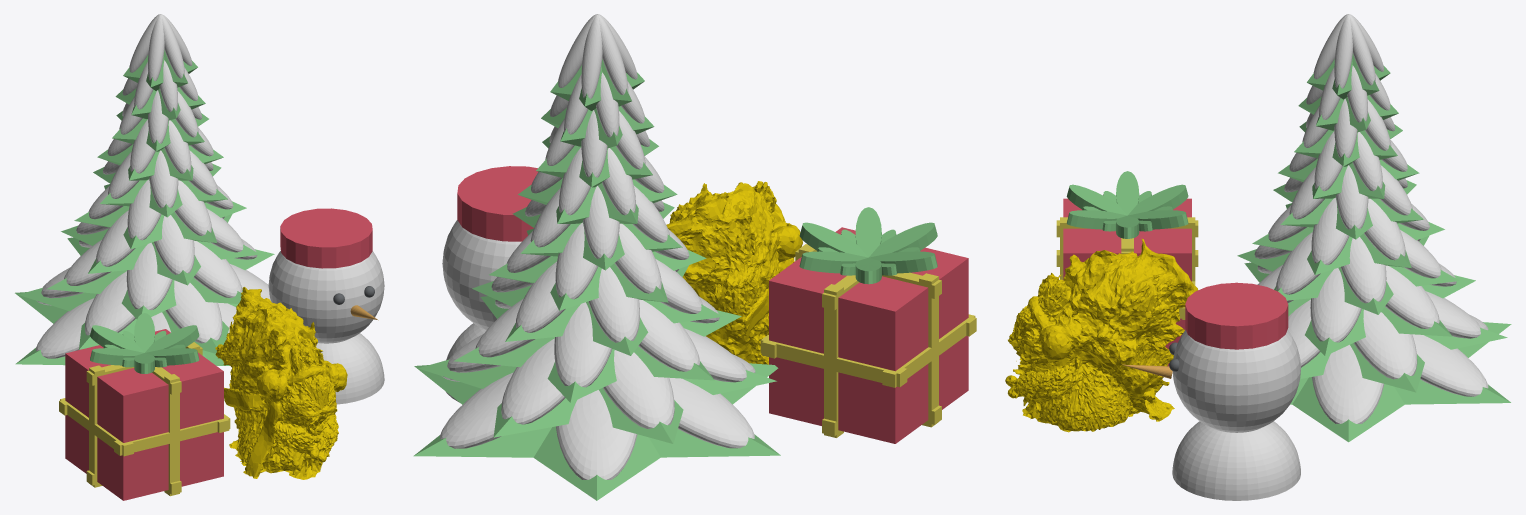
The model's file is tinker_model.glb.
3 renders of one model, left to right at view 1: azimuth 30°, elevation 25°; view 2: azimuth 150°, elevation 25°; view 3: azimuth 270°, elevation 25°, orthographic. The views are drawn at different scales.
Visible parts, largest first — view 1: Mesh_Mesh_head_geo.001_lambert2SG.001; view 2: Mesh_Mesh_head_geo.001_lambert2SG.001; view 3: Mesh_Mesh_head_geo.001_lambert2SG.001.
Part boxes in pixels (x1=…): Mesh_Mesh_head_geo.001_lambert2SG.001: x1=15, y1=14, x2=384, y2=500; Mesh_Mesh_head_geo.001_lambert2SG.001: x1=413, y1=14, x2=976, y2=500; Mesh_Mesh_head_geo.001_lambert2SG.001: x1=1005, y1=14, x2=1511, y2=500.
Bounding box in the file's own units: 0.067 × 0.068 × 0.0786.
